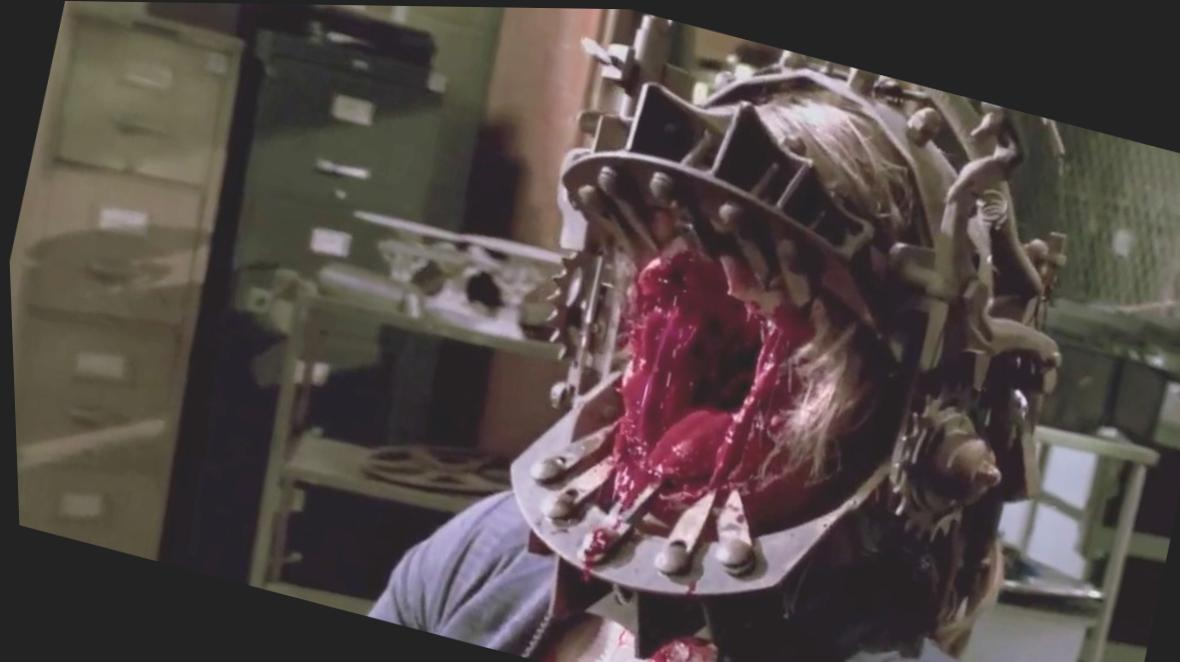Fire: (542, 236, 811, 579), (536, 614, 712, 662)
